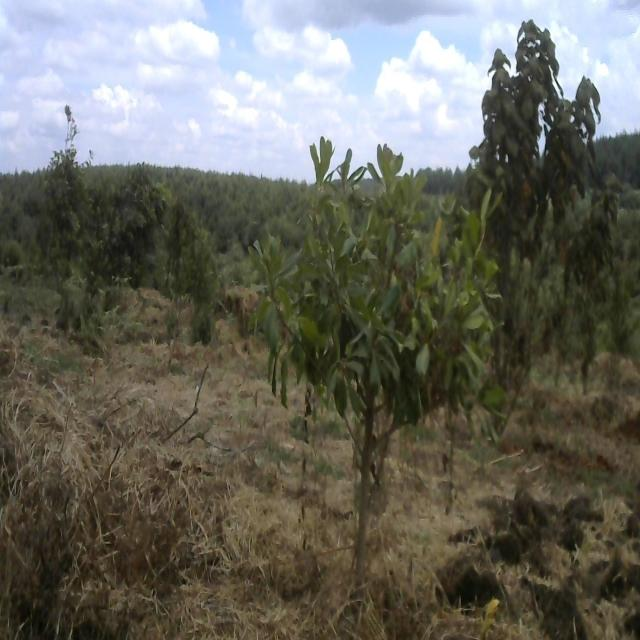other: (244, 131, 509, 575), (462, 16, 622, 430)
